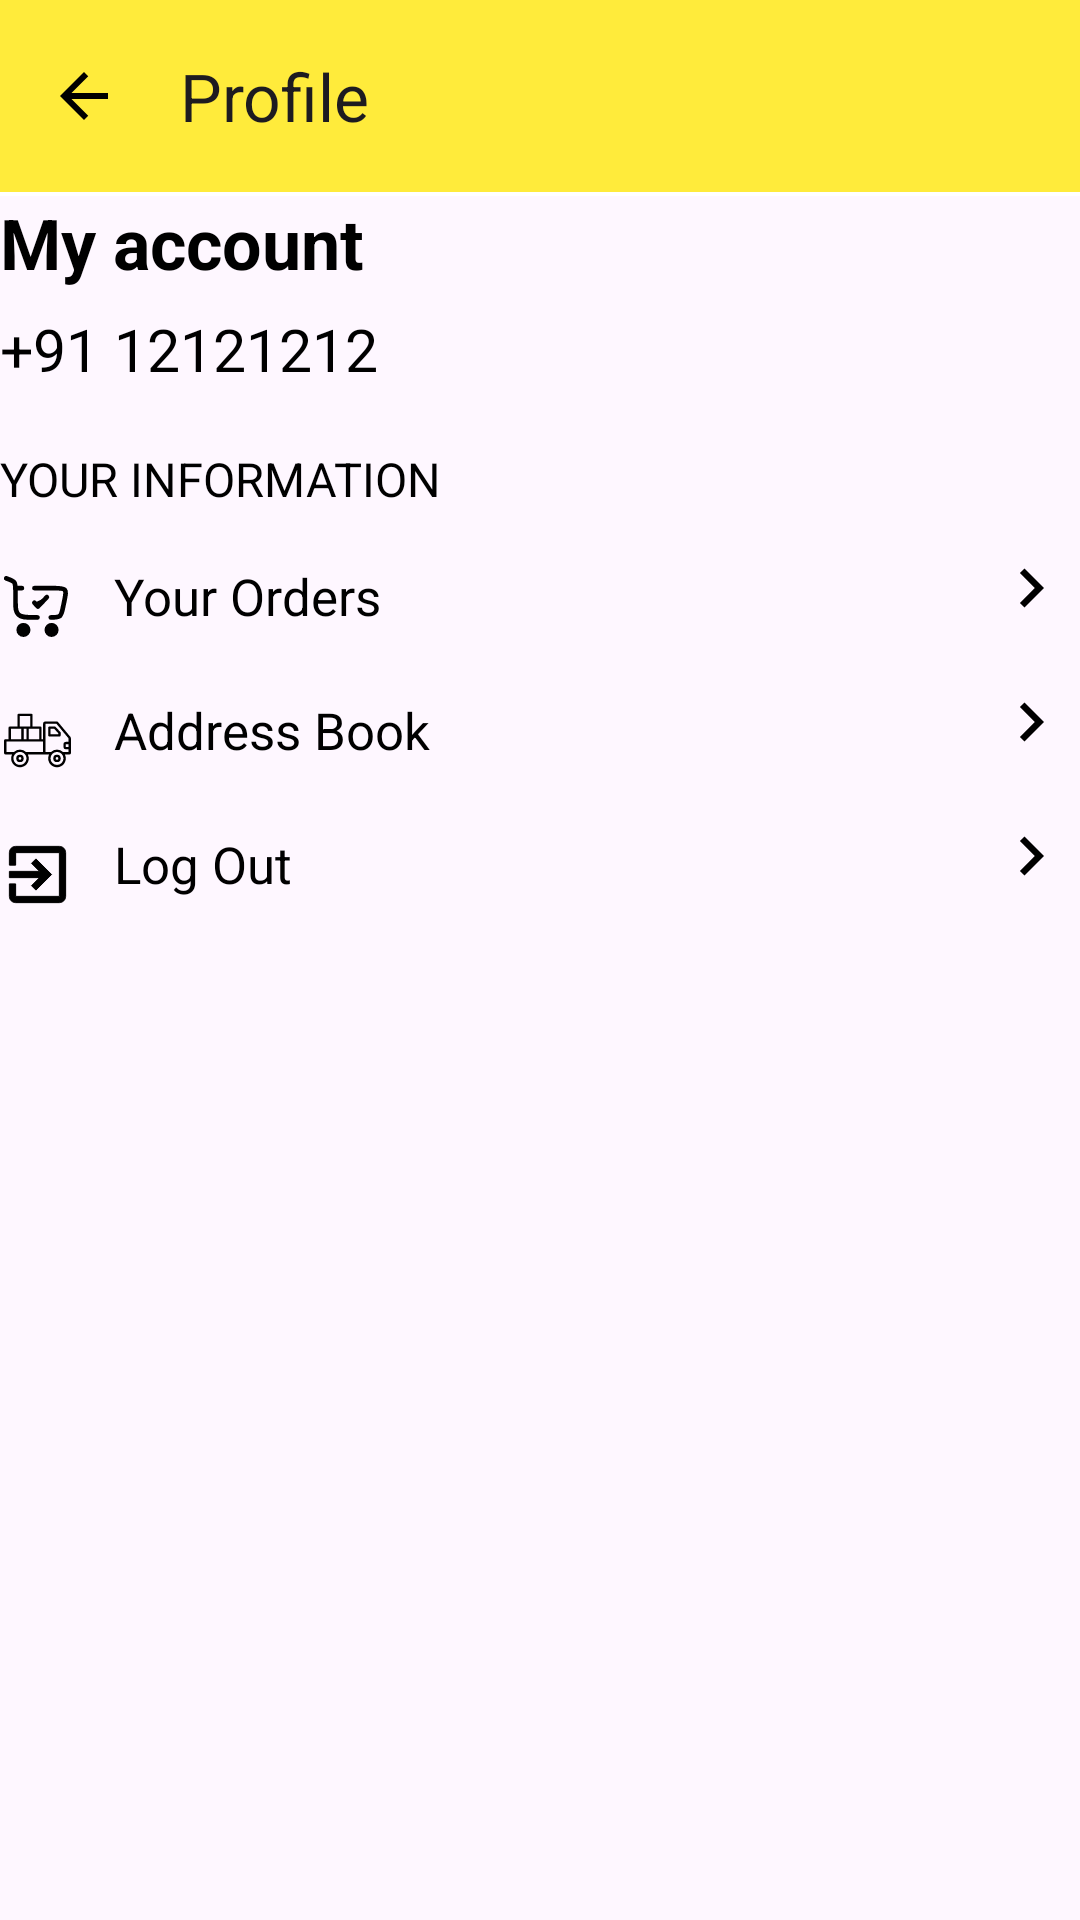

Locate icon controls on the screen. Image size 1080 × 1920, boxes as {"left": x1, "top": y1, "right": x2, "bottom": y2}.
del vehicle: {"left": 4, "top": 713, "right": 71, "bottom": 768}
exit to app: {"left": 8, "top": 845, "right": 67, "bottom": 904}
navigate next: {"left": 1020, "top": 568, "right": 1044, "bottom": 608}, {"left": 1020, "top": 702, "right": 1044, "bottom": 742}, {"left": 1020, "top": 836, "right": 1044, "bottom": 876}
ordered: {"left": 4, "top": 576, "right": 68, "bottom": 637}
